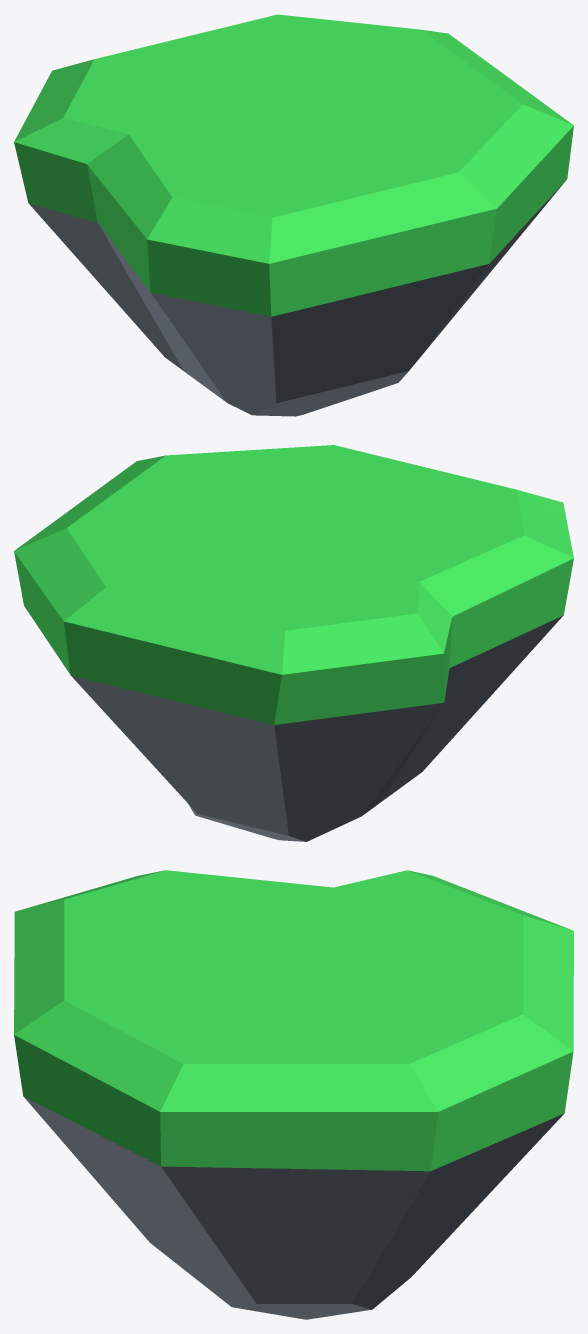
The model's file is testmodelsisland_Island_1__1_.fbx.
3 views of the same model, one above another, from view 1: azimuth 30°, elevation 25°; view 2: azimuth 150°, elevation 25°; view 3: azimuth 270°, elevation 25° (orthographic). The views are drawn at different scales.
Parts seen in each view (by area): view 1: island_Island_1__1_; view 2: island_Island_1__1_; view 3: island_Island_1__1_.
Part boxes in pixels (left/top/right/bottom): island_Island_1__1_: left=14, top=14, right=573, bottom=416; island_Island_1__1_: left=14, top=445, right=573, bottom=841; island_Island_1__1_: left=14, top=870, right=573, bottom=1319.
Bounding box in the file's own units: 622 × 423 × 623.
